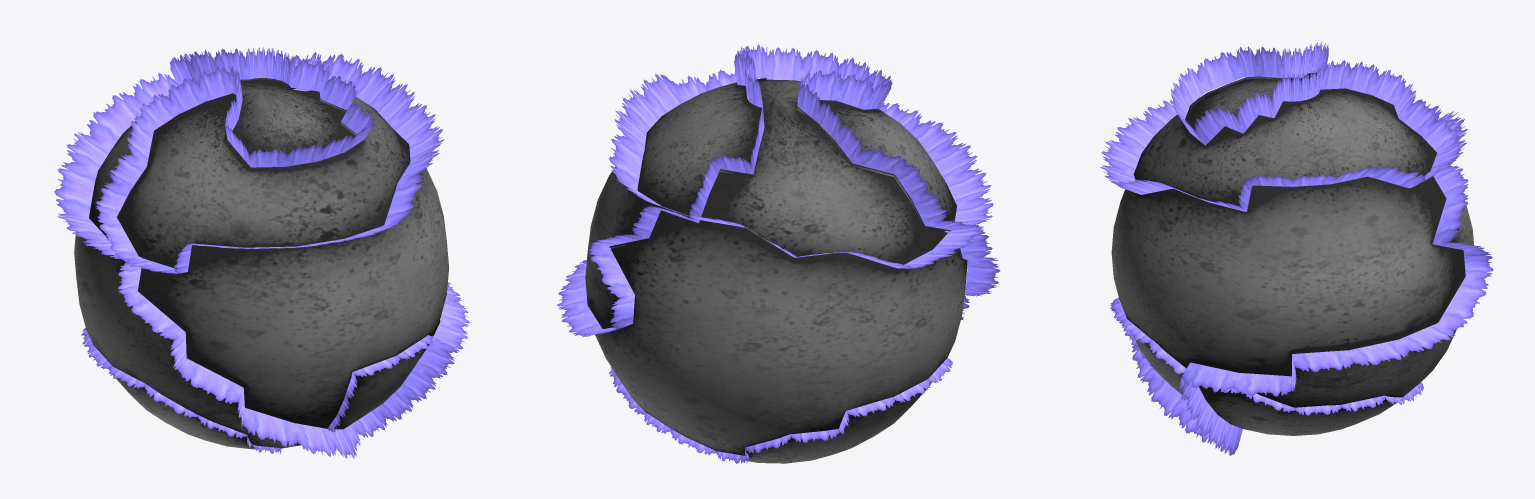
The model's file is ORBE.fbx.
The picture shows the model from 3 angles, left to right: view 1: azimuth 30°, elevation 25°; view 2: azimuth 150°, elevation 25°; view 3: azimuth 270°, elevation 25°; orthographic projection. The views are drawn at different scales.
Visible parts, largest first — view 1: OrbExterior, EmissiveLight; view 2: OrbExterior, EmissiveLight; view 3: OrbExterior, EmissiveLight.
Part boxes in pixels (x1,y1,x2,y2): OrbExterior: (74,78,449,449); EmissiveLight: (54,47,470,458); OrbExterior: (585,78,967,463); EmissiveLight: (557,44,1000,463); OrbExterior: (1111,72,1474,435); EmissiveLight: (1100,42,1493,455).
Size of the model in its own units: 9.67 by 9.1 by 9.19.
